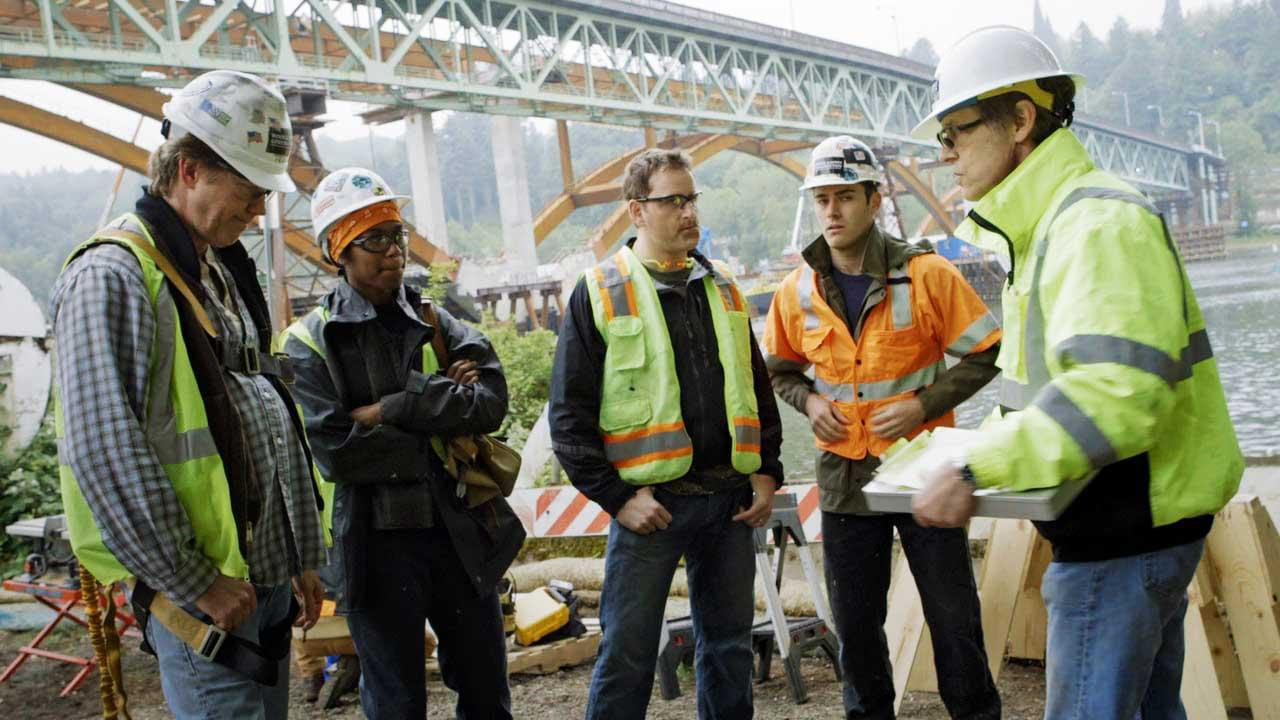helmet: (908, 25, 1083, 148), (160, 68, 305, 198), (310, 166, 413, 261), (798, 133, 890, 200)
